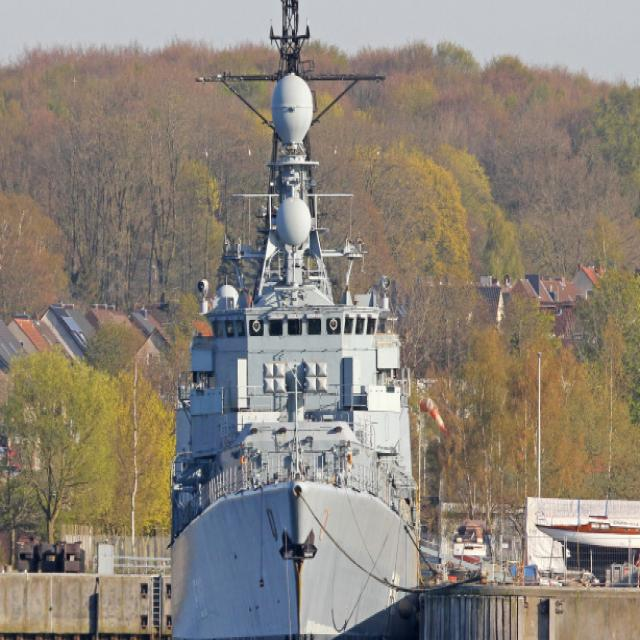Fragata: (166, 1, 425, 640)
